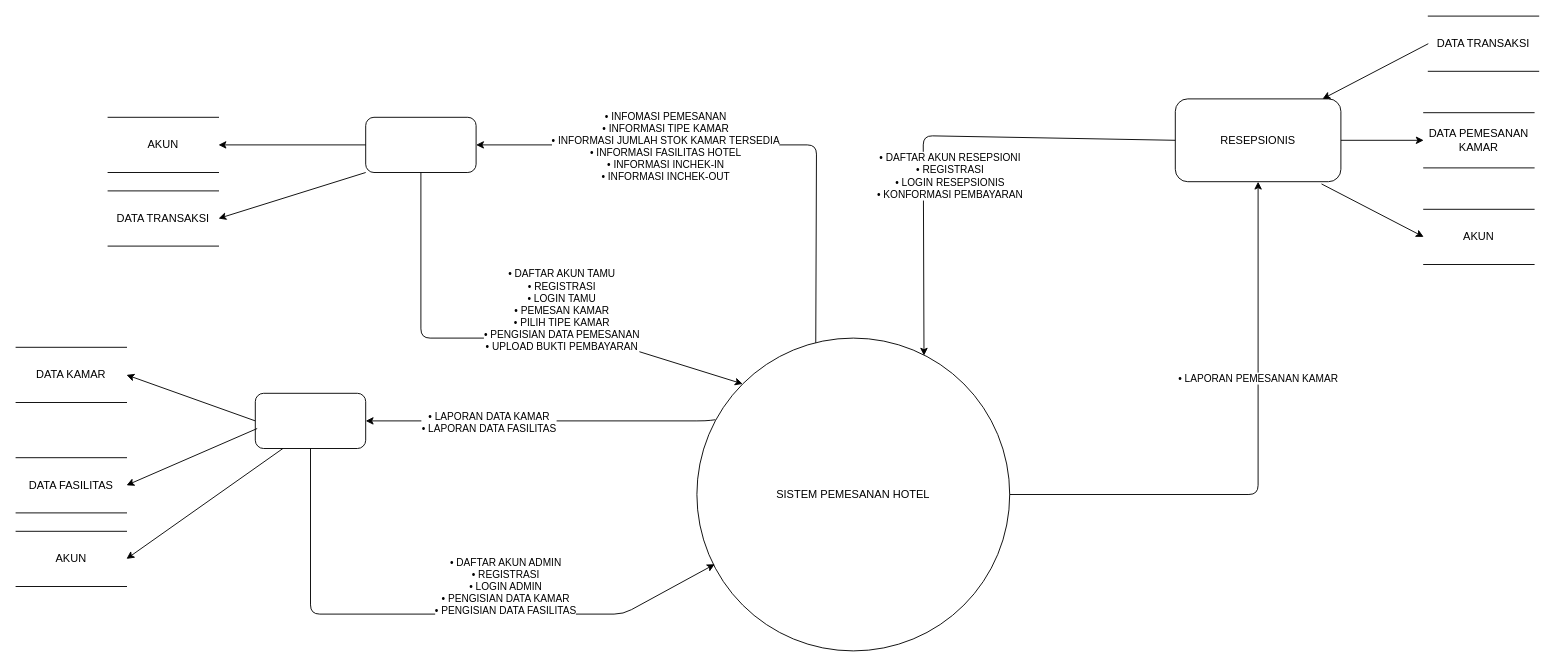
Image size: 1555x667. Some labels were removed from this diagram. The centre of each missing label's shape, as x and y in pixels:
"ADMIN" goes at pixel 310 420.
"TAMU" goes at pixel 420 144.
